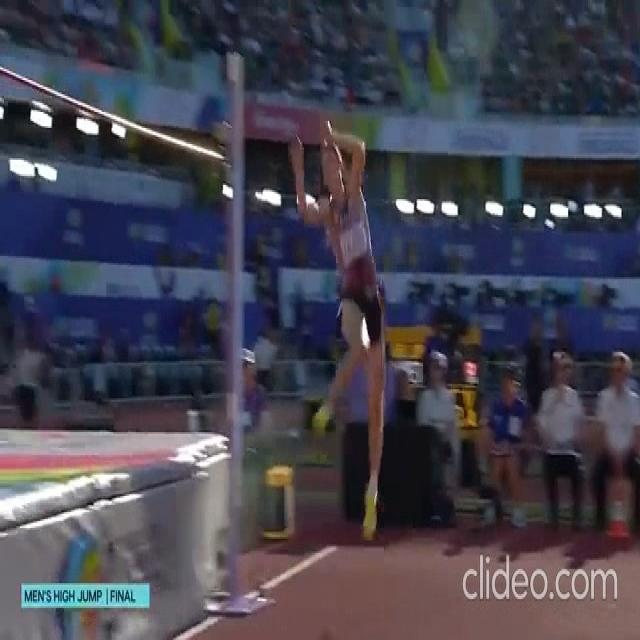jump: (289, 119, 385, 536)
